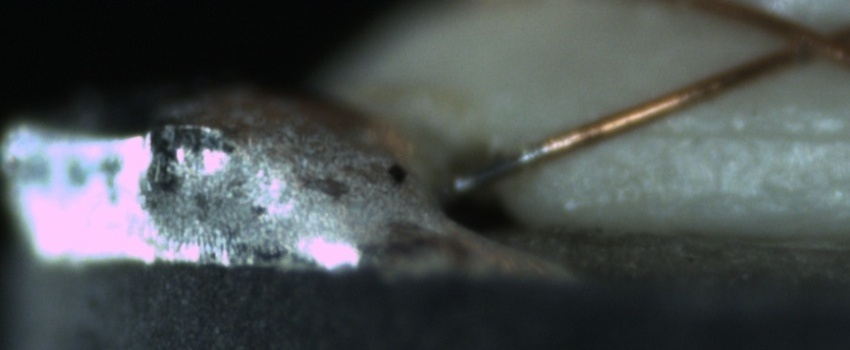CL: (767, 13, 844, 73)
DL: (612, 98, 848, 165)
TS: (447, 143, 542, 197)
TTCW: (448, 120, 590, 197)
